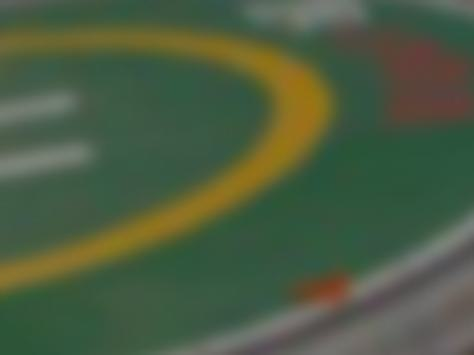Apron: (1, 7, 348, 291)
